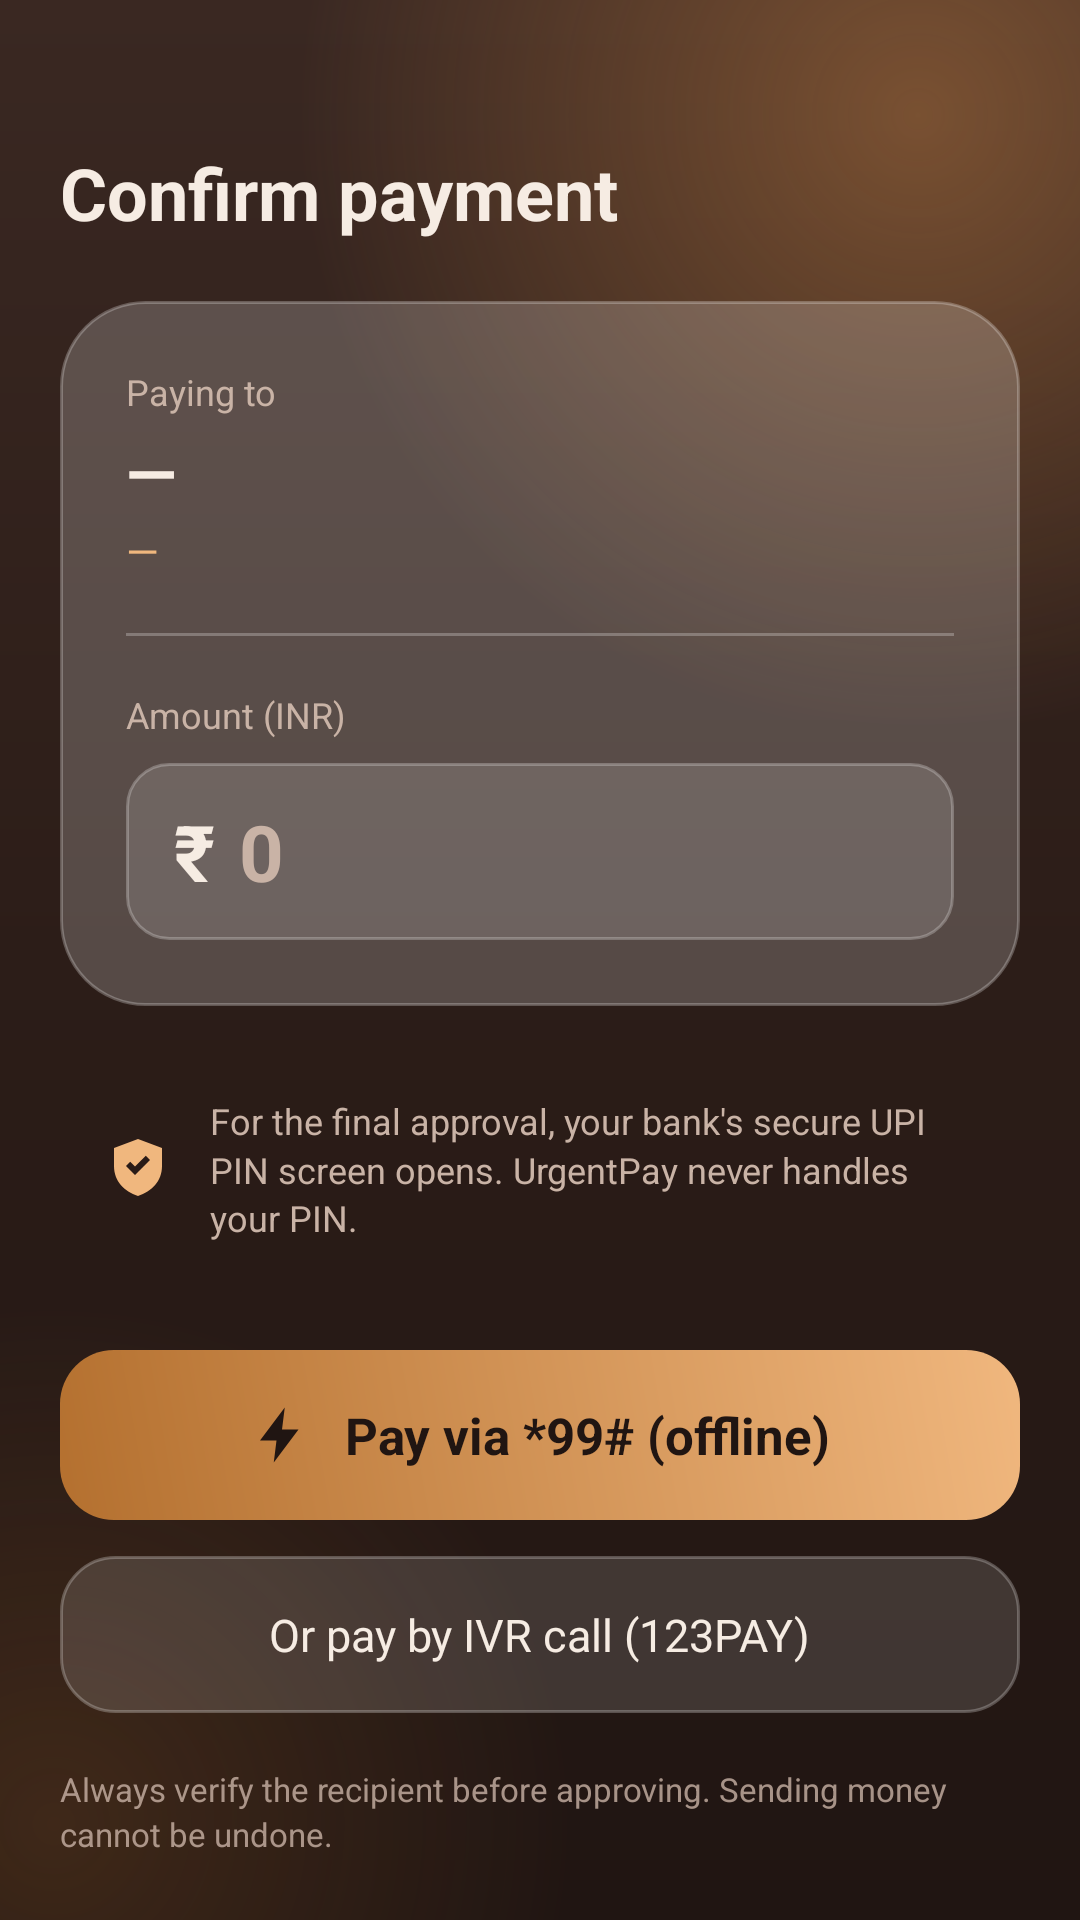

Icons on this 1080px x 1920px Android screen, each with the point to tap as point (x, y):
bolt: point (279, 1435)
shield: point (138, 1167)
